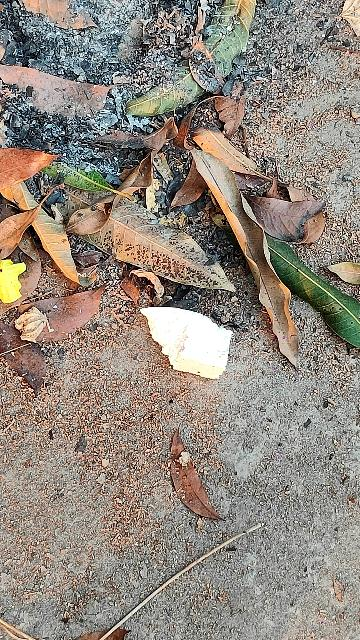cocksheet: (140, 298, 240, 382)
